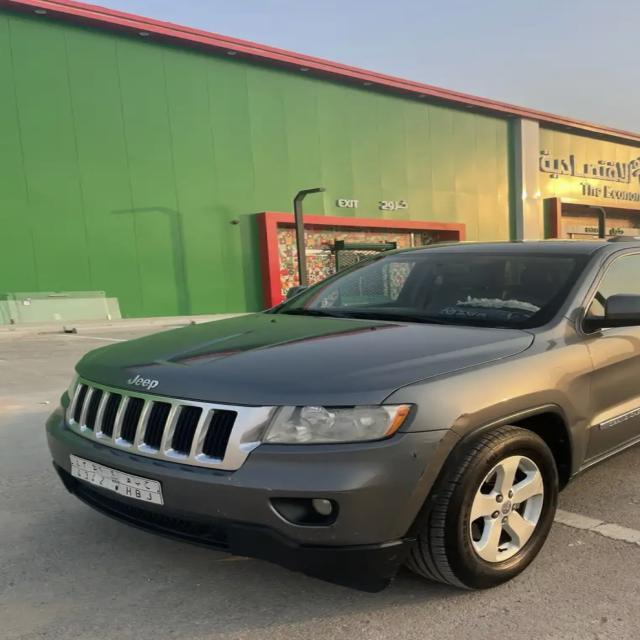license_plate: (67, 454, 164, 508)
